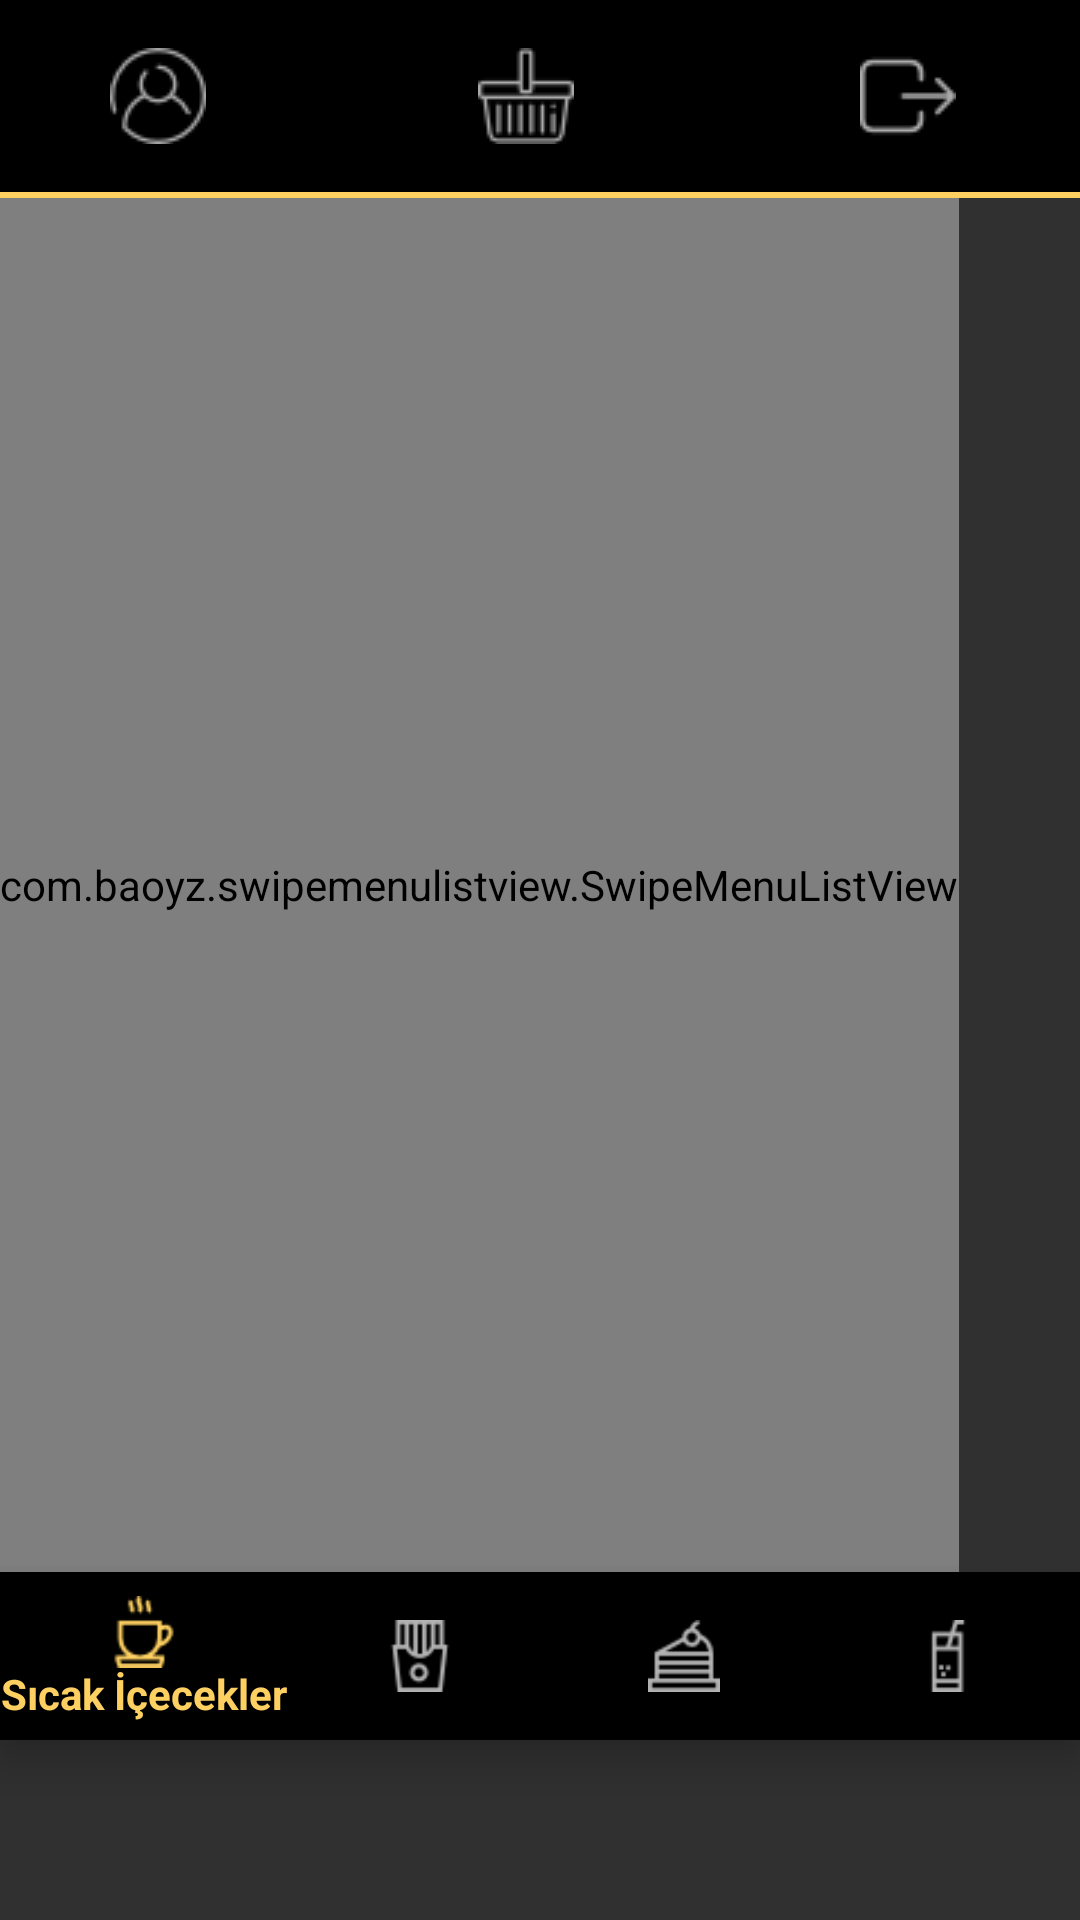

Icons on this 1080 × 1920 Android screen, each with the point to tap as (x=x, y=y):
shopping basket: (x=526, y=96)
user: (x=158, y=96)
